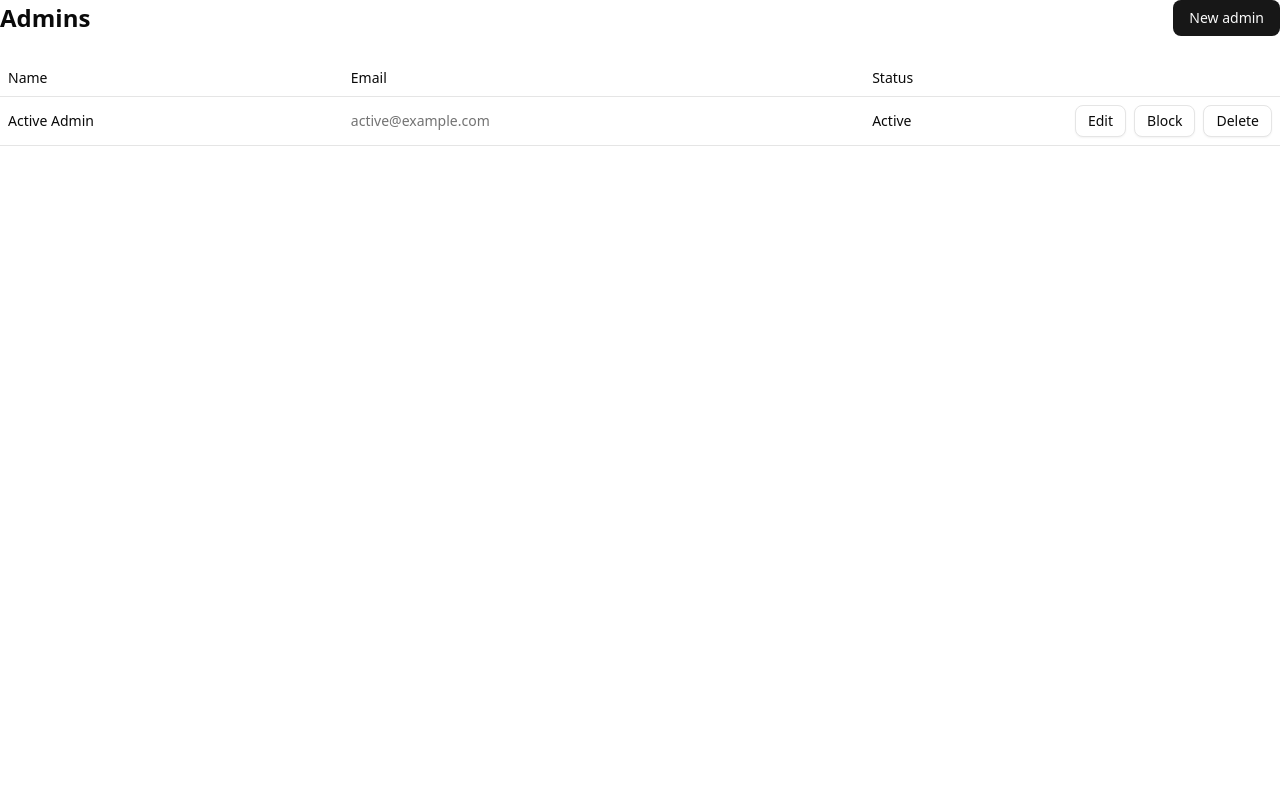
Scenario: edit › maps a rejected permission 422 onto the permission field
Click the button with aria-label "edit active admin": (1101, 121) [1075, 105, 1126, 137]
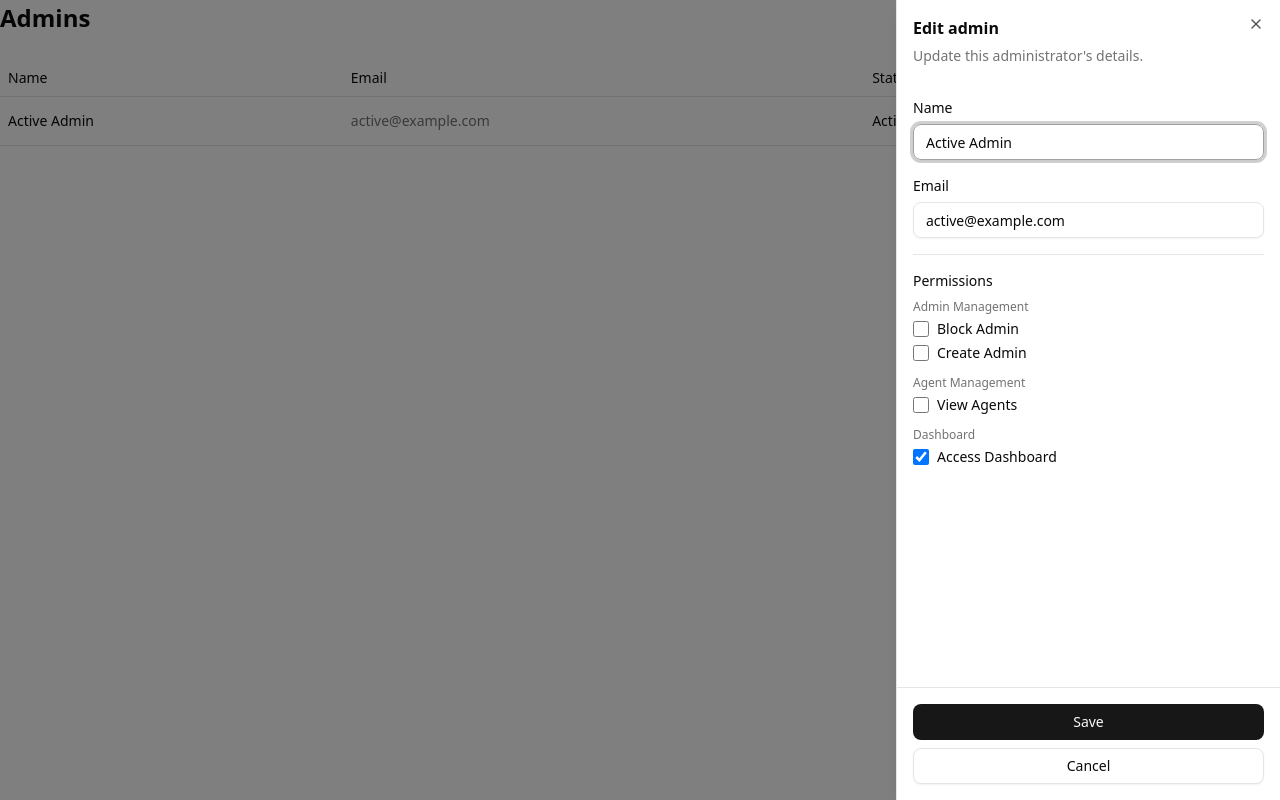
Click the checkbox labelled "Create Admin": (921, 353) [913, 345, 929, 361]
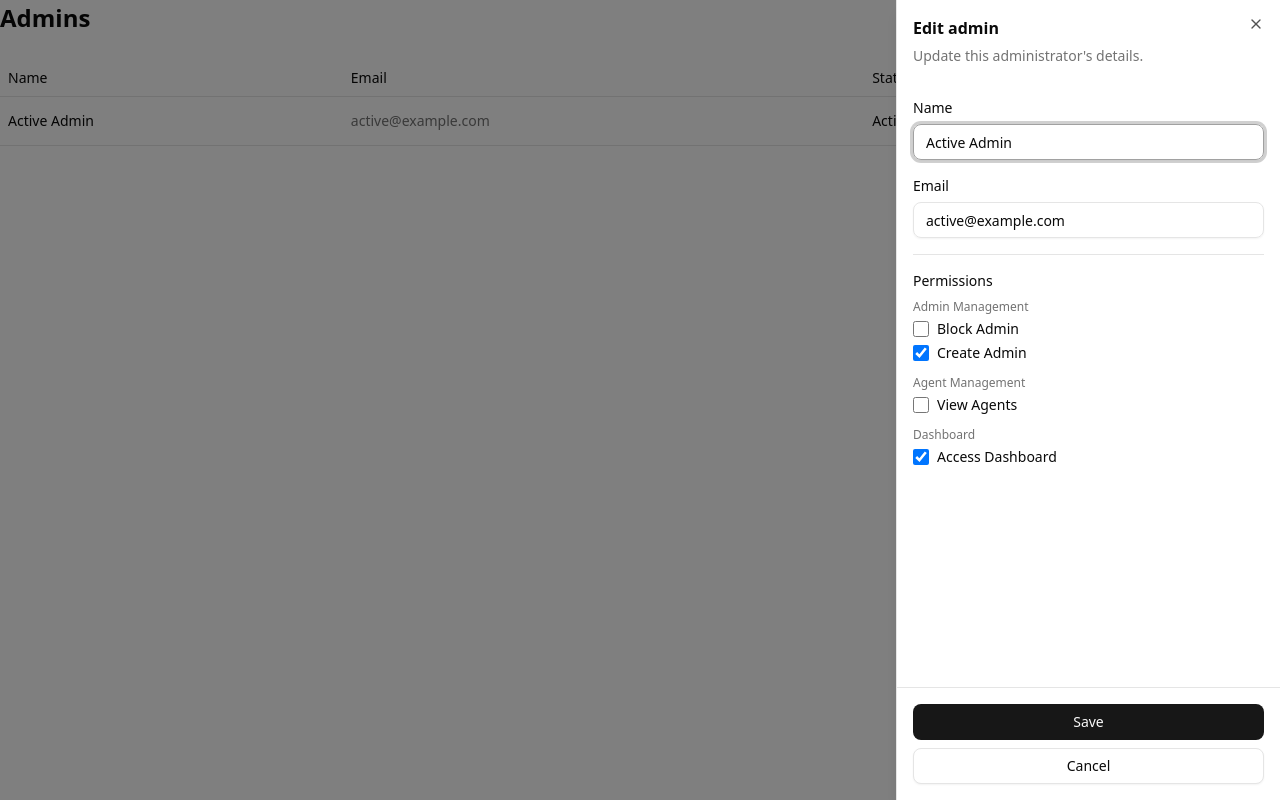
Click the button "Save": (1088, 722) [913, 704, 1264, 740]
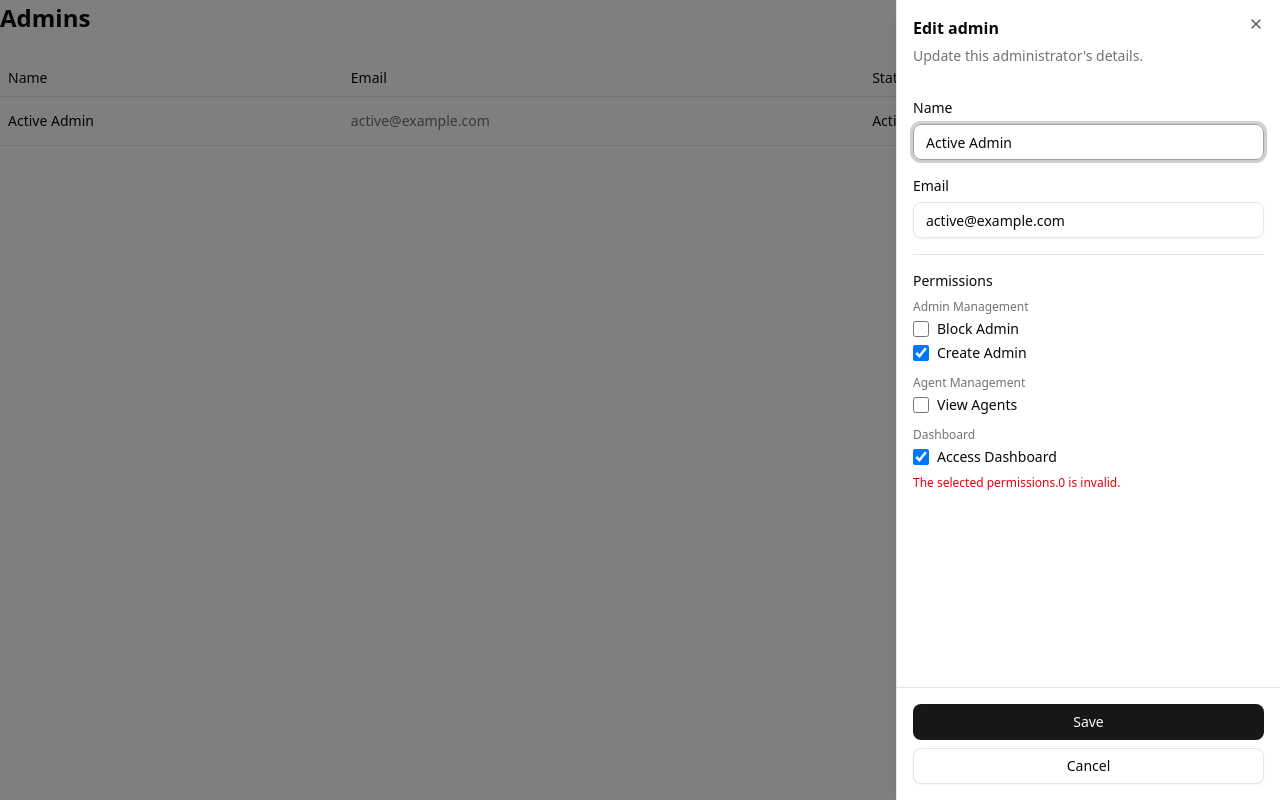
Expected: the text "The selected permissions.0 is invalid." is shown, [913, 474, 1120, 491]
